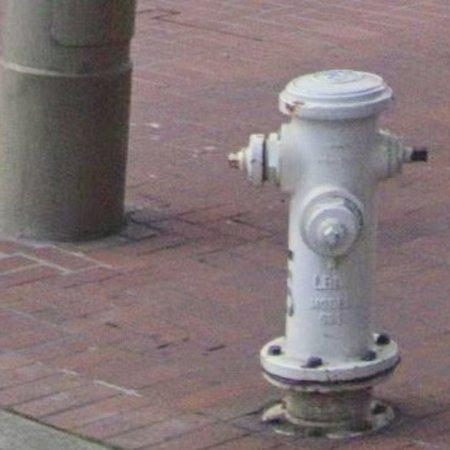a fire hydrant: (235, 69, 405, 439)
